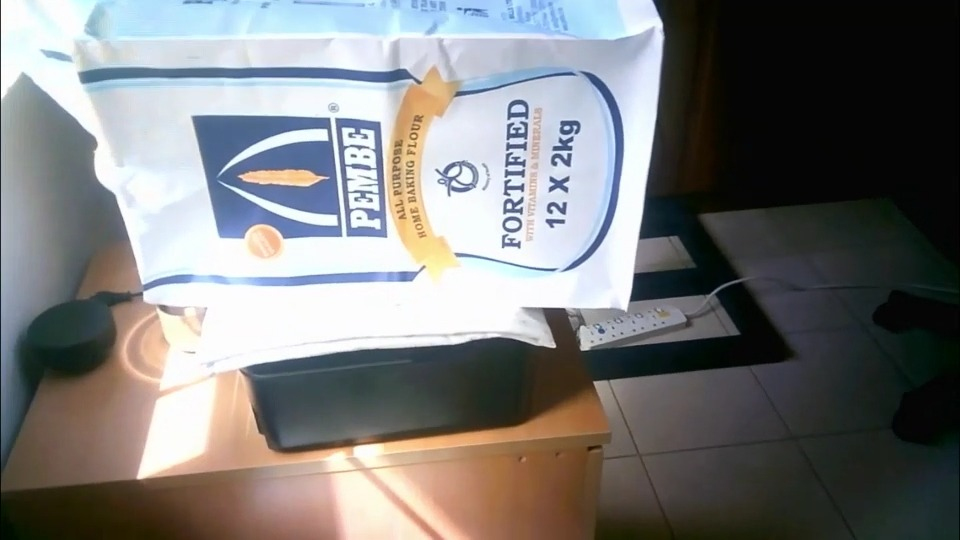wheat_flour_blue_label: (68, 6, 661, 306)
